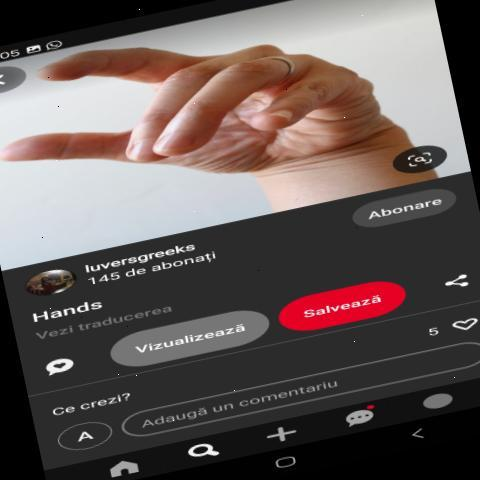Hands: (0, 30, 454, 189)
